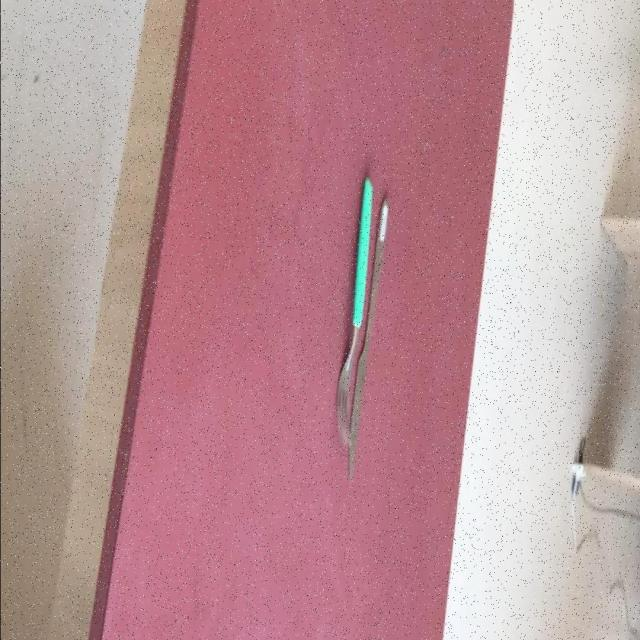Fork: (335, 178, 374, 450)
Knife: (347, 198, 391, 485)
